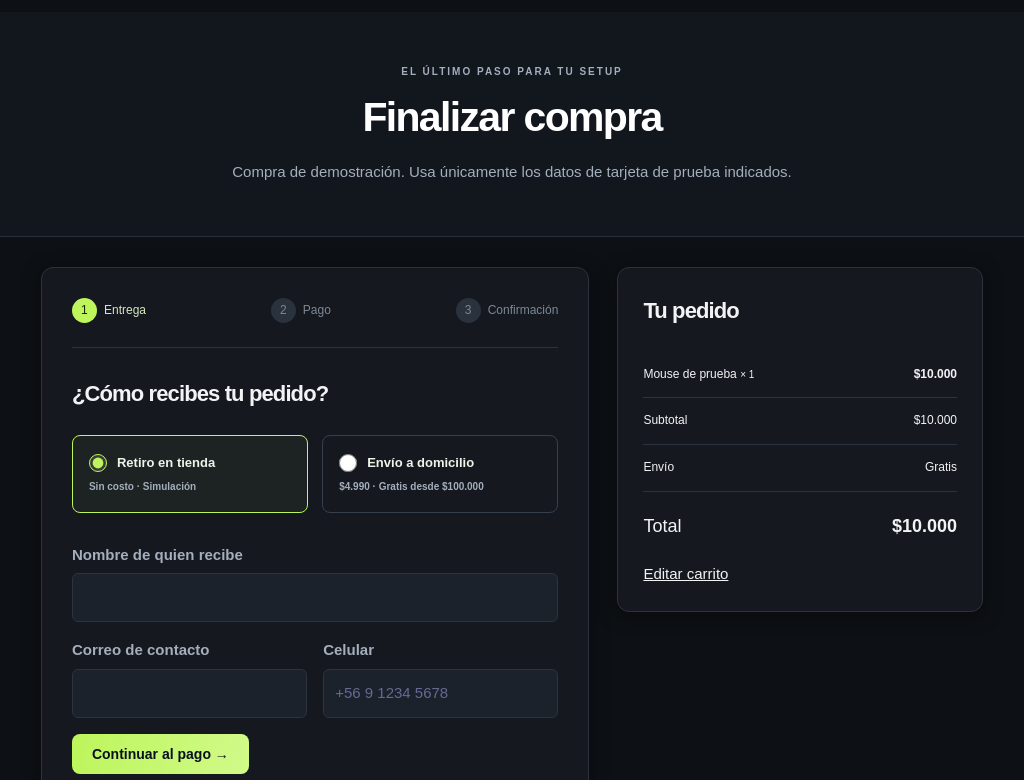
Scenario: Compra integrada › CK03 contacto inválido bloquea el paso a tarjeta
The width and height of the screenshot is (1024, 780).
Type "Demo" into the field labelled "Nombre de quien recibe" at (315, 598), box [72, 573, 558, 622]
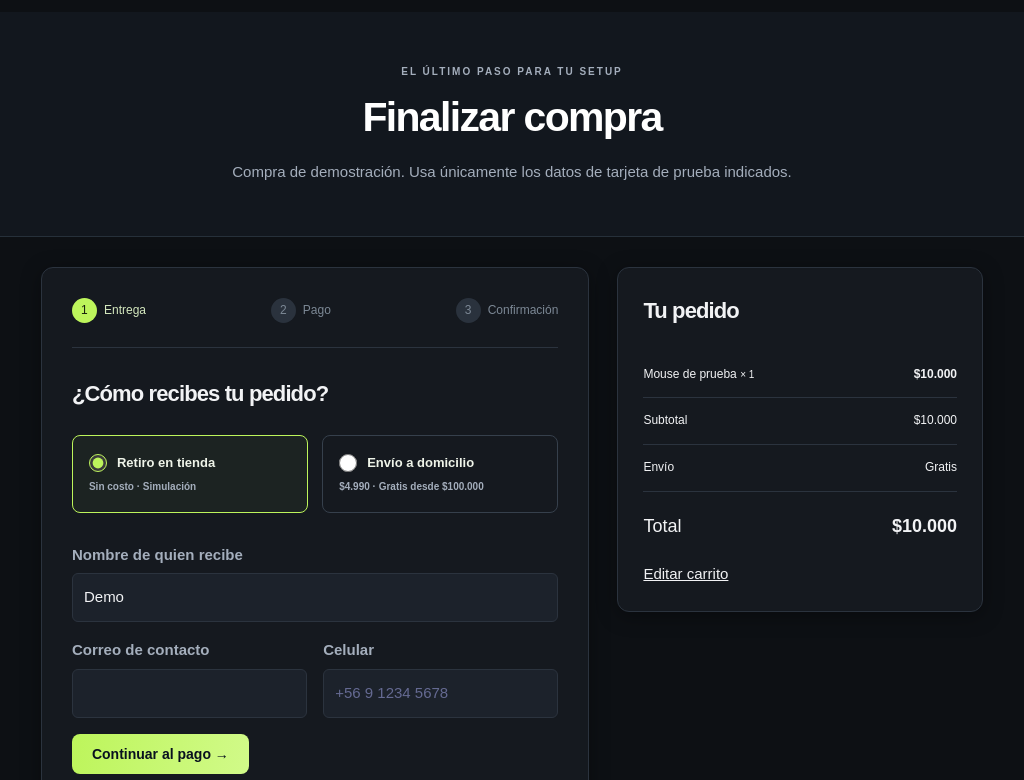
Type "demo@example.com" into the field labelled "Correo de contacto" at (190, 693), box [72, 669, 307, 718]
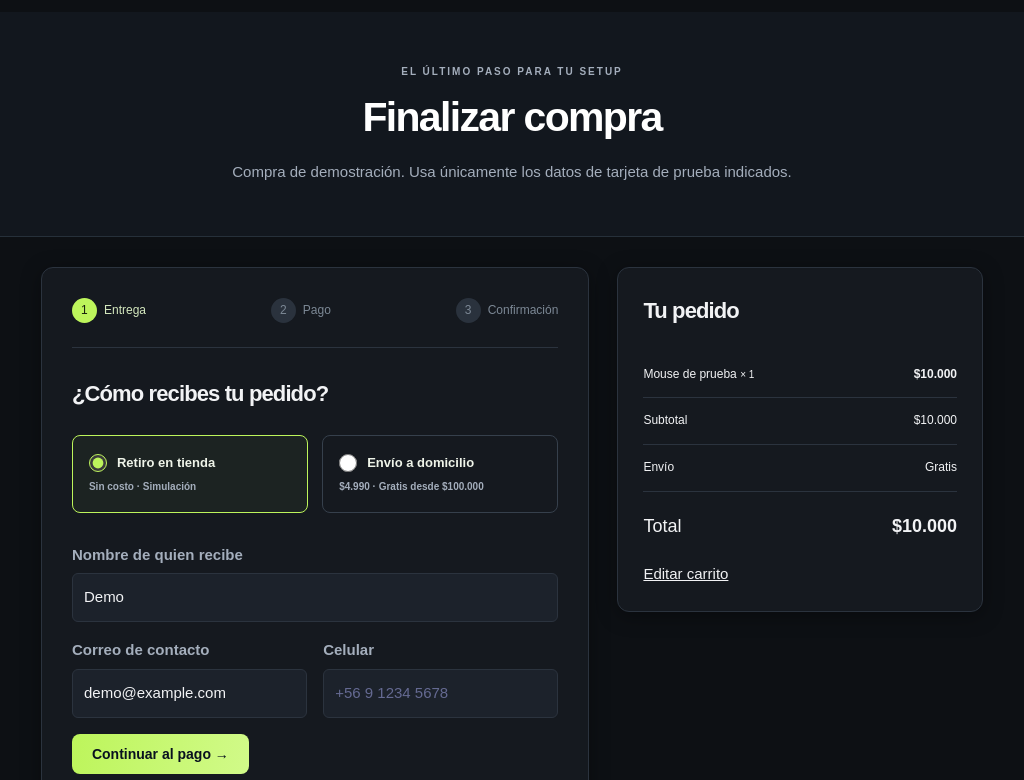
Type "123" into the field labelled "Celular" at (441, 693), box [323, 669, 558, 718]
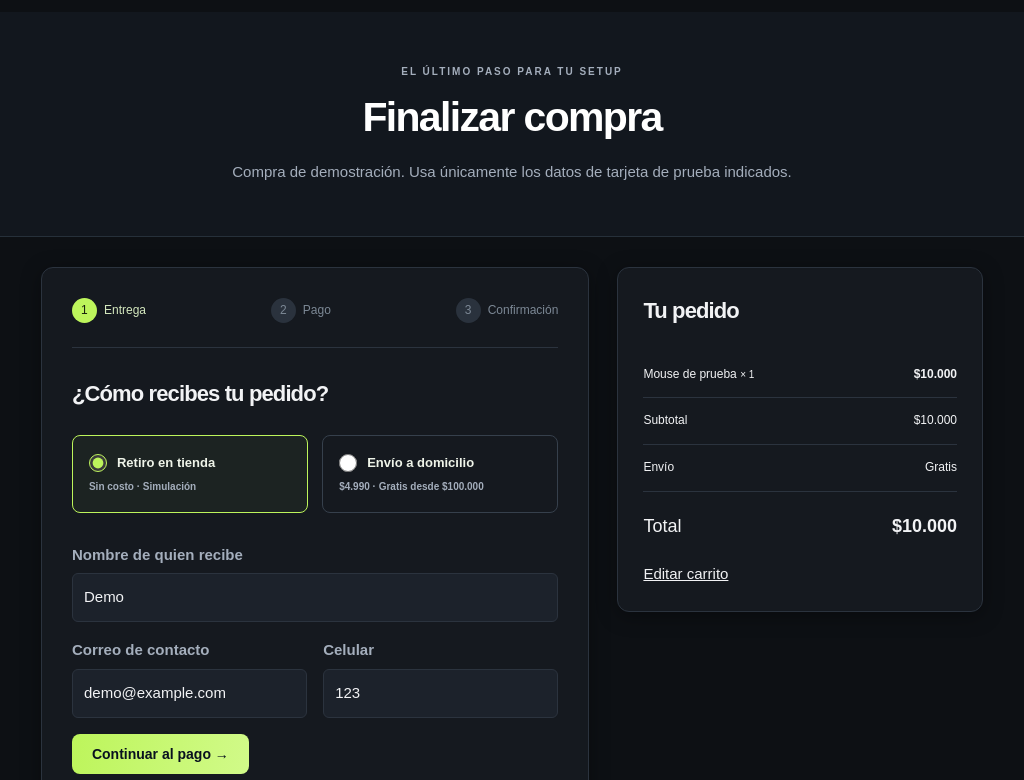
Click the button "Continuar al pago →" at (160, 754), box [72, 734, 249, 774]
(page scrolled)
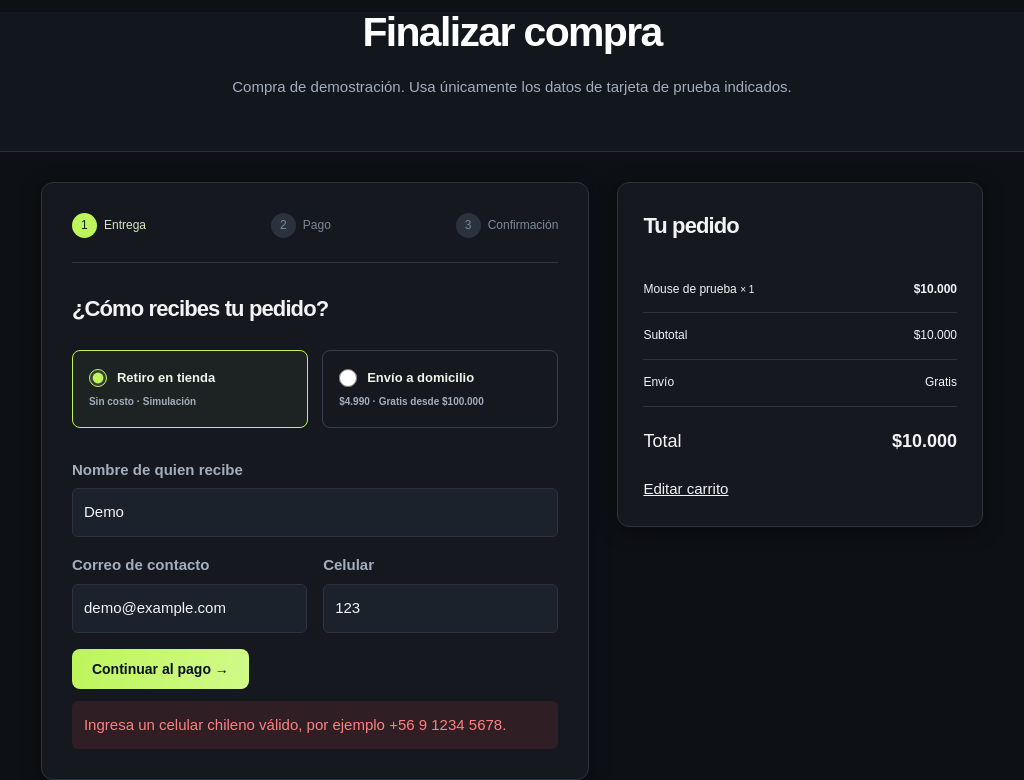
Check: the message shows "celular", box [84, 716, 506, 732]
